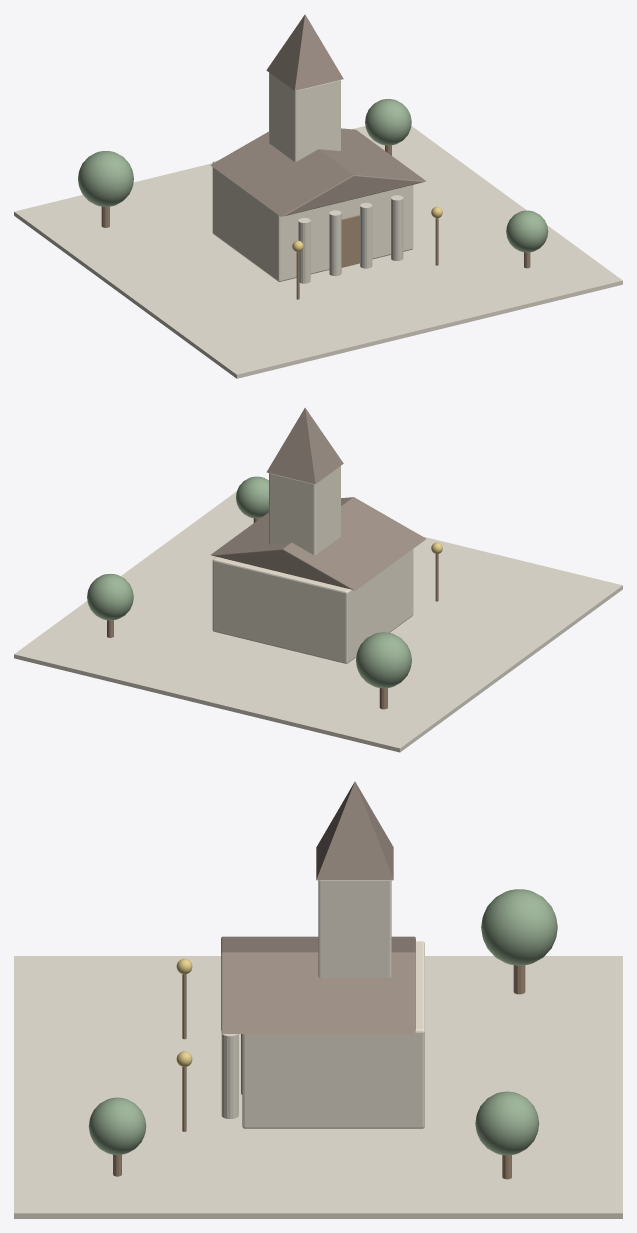
The model's file is religion.glb.
The picture shows the model from 3 angles, top to bottom: view 1: azimuth 30°, elevation 25°; view 2: azimuth 150°, elevation 25°; view 3: azimuth 270°, elevation 25°; orthographic projection. The views are drawn at different scales.
Parts seen in each view (by area): view 1: Ground, Roof, Hall, Tower, Spire, TreeA_crown, TreeB_crown, TreeC_crown, Door, Col2, Col3, Col1 (+1 smaller); view 2: Ground, Hall, Roof, Tower, Spire, TreeA_crown, TreeB_crown, TreeC_crown; view 3: Ground, Hall, Roof, Tower, Spire, TreeA_crown, TreeB_crown, TreeC_crown, Col3.
Boxes of the visible parts, x1,y1,x2,y2 form: Ground: (14, 126, 622, 378); Roof: (210, 128, 426, 216); Hall: (212, 160, 413, 281); Tower: (269, 72, 340, 161); Spire: (266, 14, 343, 90); TreeA_crown: (78, 151, 133, 206); TreeB_crown: (365, 99, 411, 145); TreeC_crown: (506, 210, 548, 252); Door: (341, 215, 359, 267); Col2: (360, 202, 372, 268); Col3: (391, 195, 403, 260); Col1: (329, 210, 341, 276); Ground: (14, 491, 622, 752); Hall: (212, 549, 413, 663); Roof: (211, 497, 425, 590); Tower: (269, 466, 340, 555); Spire: (266, 407, 343, 484); TreeA_crown: (356, 632, 411, 688); TreeB_crown: (87, 573, 133, 620); TreeC_crown: (236, 476, 268, 518); Ground: (14, 956, 622, 1218); Hall: (242, 941, 424, 1128); Roof: (221, 936, 415, 1033); Tower: (318, 880, 391, 977); Spire: (316, 781, 393, 880); TreeA_crown: (481, 889, 557, 965); TreeB_crown: (475, 1091, 539, 1155); TreeC_crown: (88, 1097, 146, 1154); Col3: (221, 1033, 238, 1118).
Bounding box in the file's own units: 20 × 11.2 × 20.
